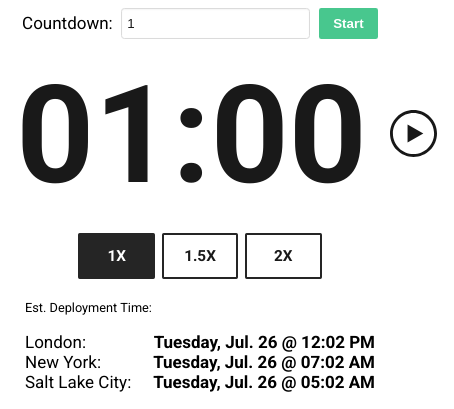
Timer should change when entering a new time
Expected: the text with test id "countdown-timer-time" shows "1:00", [16,56,367,215]
In the field with test id "countdown-form-input": (216, 23) [121,8,310,39], type "5"
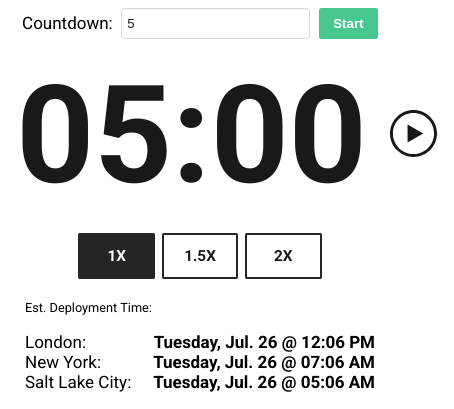
Expected: the text with test id "countdown-timer-time" shows "5:00", [16,56,367,215]
